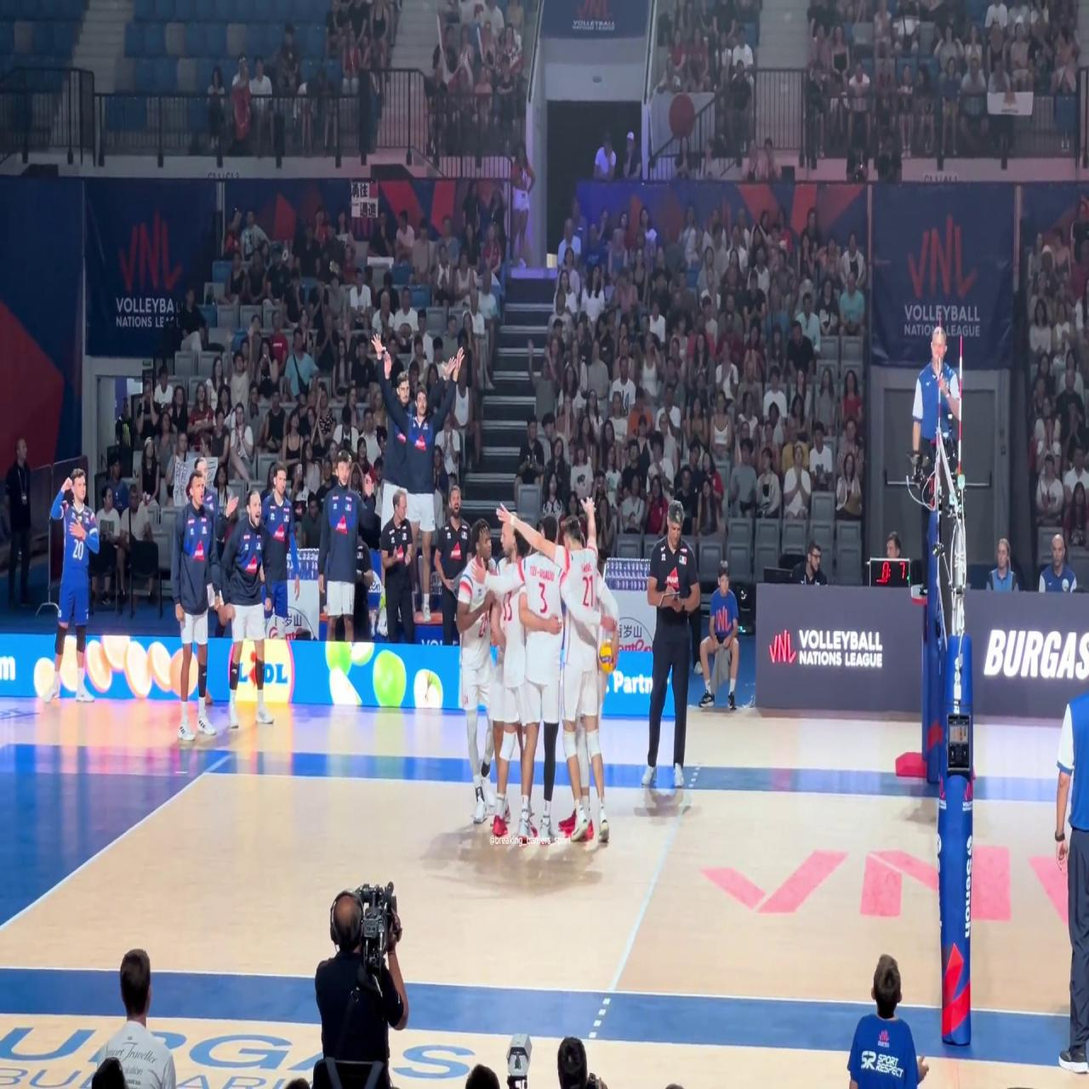ball: (598, 641, 614, 673)
